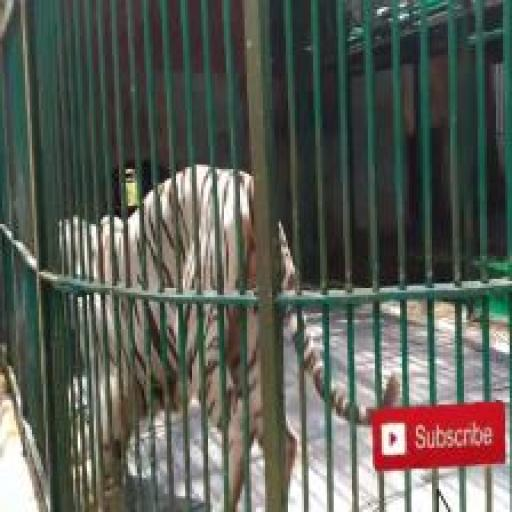Tiger: (55, 293, 136, 507), (223, 306, 244, 510), (216, 169, 238, 291), (196, 165, 217, 292), (176, 167, 196, 292), (203, 304, 222, 429), (246, 306, 262, 444), (132, 300, 150, 412), (164, 304, 183, 409), (239, 172, 256, 289), (159, 178, 176, 292), (58, 217, 89, 276), (148, 302, 165, 405), (303, 316, 324, 396), (183, 304, 200, 400), (144, 190, 160, 290), (90, 215, 112, 284), (128, 212, 140, 286)
